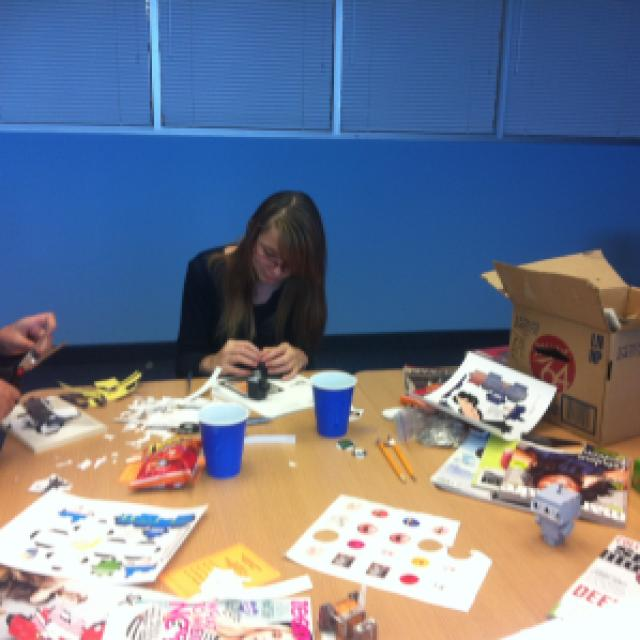scattered-items: (21, 481, 639, 640), (71, 343, 407, 478)
